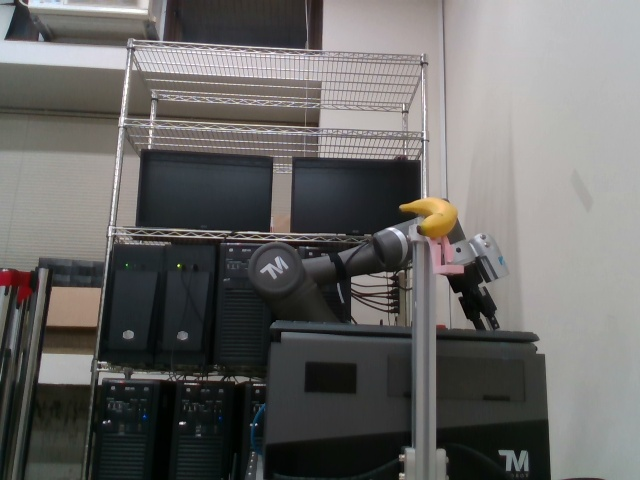banana: (396, 195, 458, 239)
